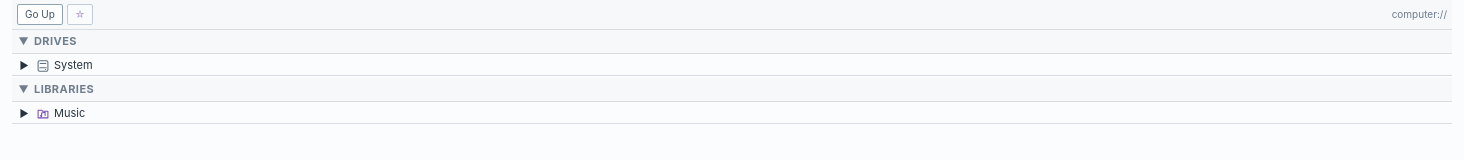
Test: FolderTree — browser sections › shows drives and libraries and collapses each section independently
This screenshot has width=1464, height=160.
Expected: the text "System" is shown, [54, 59, 93, 72]
Expected: the text "Music" is shown, [54, 107, 85, 120]
Click the button "▶ Drives". click: (55, 41)
box: [12, 30, 1452, 54]
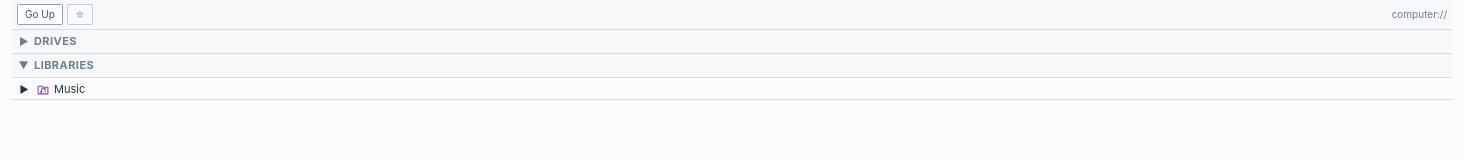
Expected: the text "Music" is shown, [54, 83, 85, 96]
Result: the button "▶ Drives" is collapsed at [12, 30, 1452, 54]
Result: the text "System" is gone
Click the button "▶ Libraries". click: (64, 65)
box: [12, 54, 1452, 78]
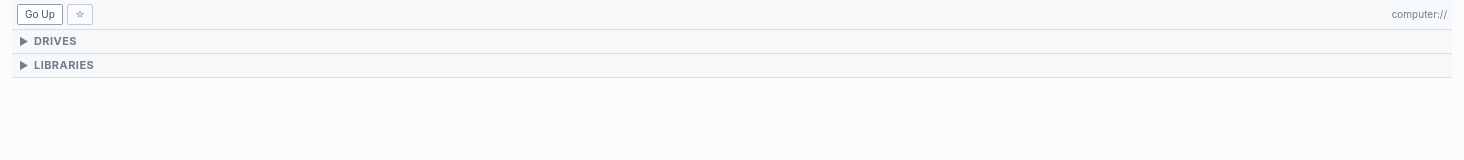
Result: the text "Music" is gone
